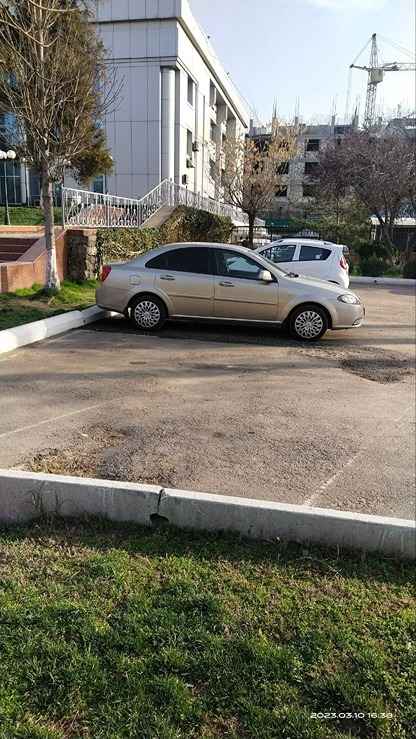car: (85, 239, 371, 348), (259, 219, 358, 279)
tree: (0, 0, 114, 287), (315, 115, 416, 246), (187, 120, 285, 219)
